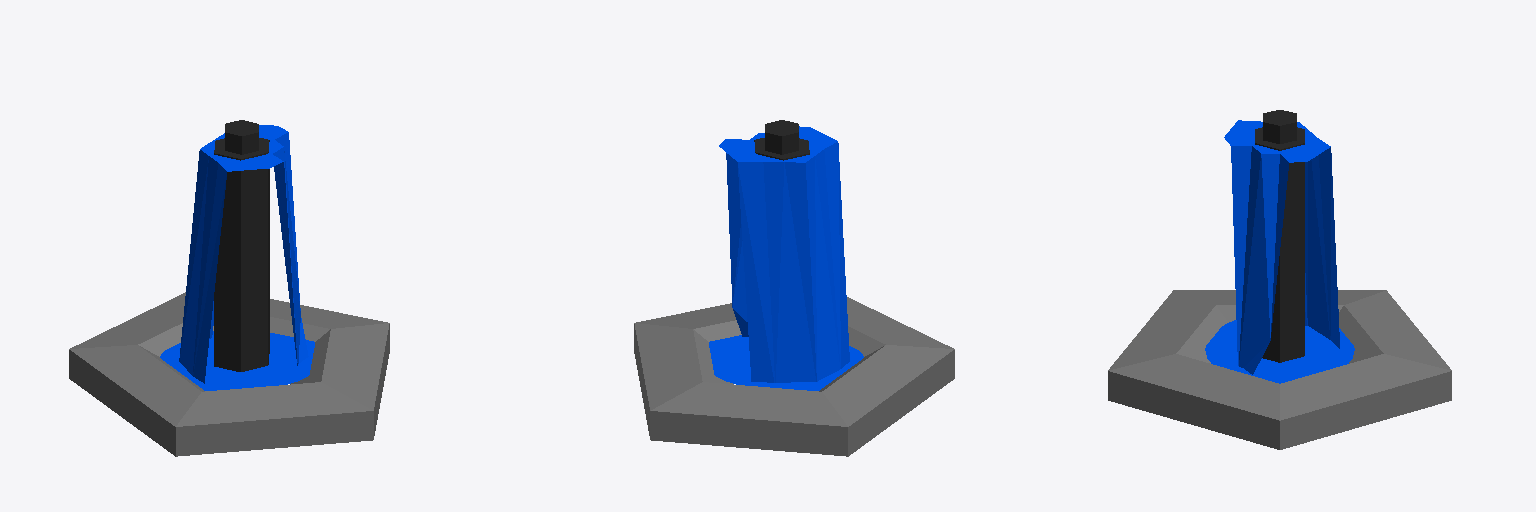
Rendered from Fountain.obj.
3 renders of one model, left to right at view 1: azimuth 30°, elevation 25°; view 2: azimuth 150°, elevation 25°; view 3: azimuth 270°, elevation 25°, orthographic.
Parts seen in each view (by area): view 1: pTorus1, pCylinder1, pDisc2, pDisc1; view 2: pTorus1, pDisc2, pDisc1, pCylinder1; view 3: pTorus1, pDisc2, pCylinder1, pDisc1.
Boxes of the visible parts, box(x1,y1,x2,y2) form: pTorus1: box(69, 292, 389, 456); pCylinder1: box(214, 120, 269, 371); pDisc2: box(179, 125, 308, 383); pDisc1: box(160, 331, 314, 390); pTorus1: box(634, 297, 954, 456); pDisc2: box(719, 126, 849, 382); pDisc1: box(709, 335, 863, 390); pCylinder1: box(754, 120, 809, 160); pTorus1: box(1108, 290, 1451, 449); pDisc2: box(1224, 120, 1339, 374); pCylinder1: box(1255, 110, 1304, 362); pDisc1: box(1205, 320, 1354, 383).
Bounding box in the file's own units: 6.18 × 5.81 × 6.9.